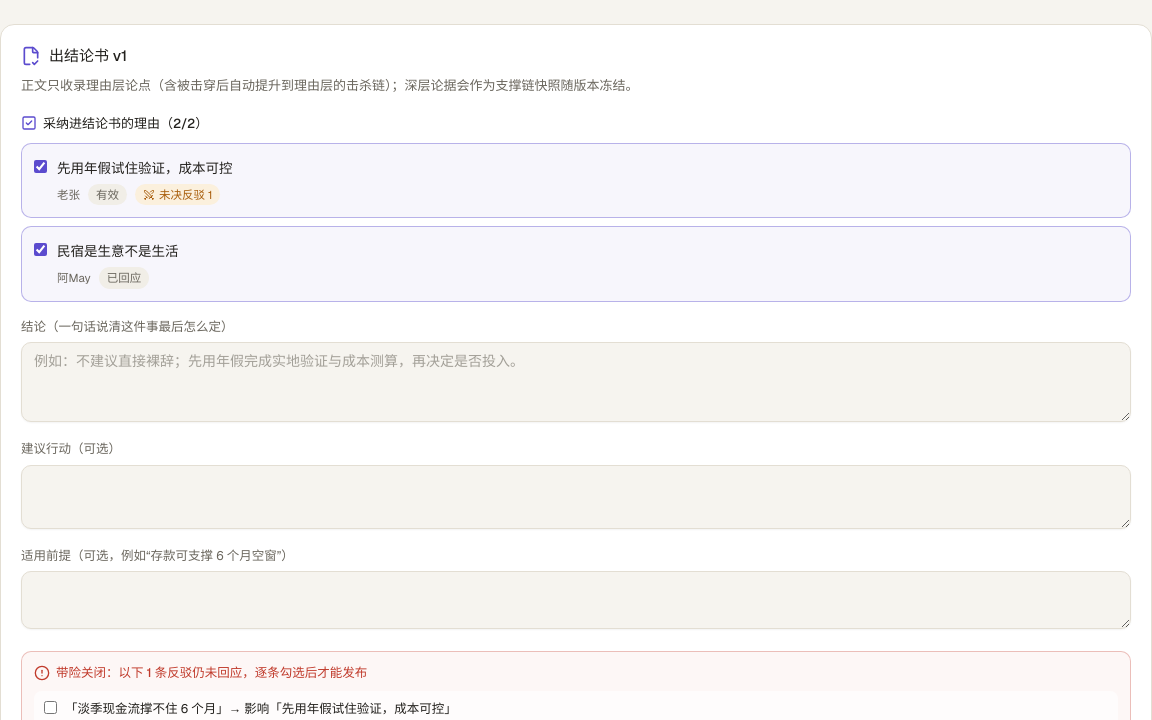
Test: 出结论书向导（M4：采纳 + 带险关闭勾选） › 失败时展示服务端错误
Click the checkbox named "acknowledgedChallengeId": (50, 707) [44,701,57,714]
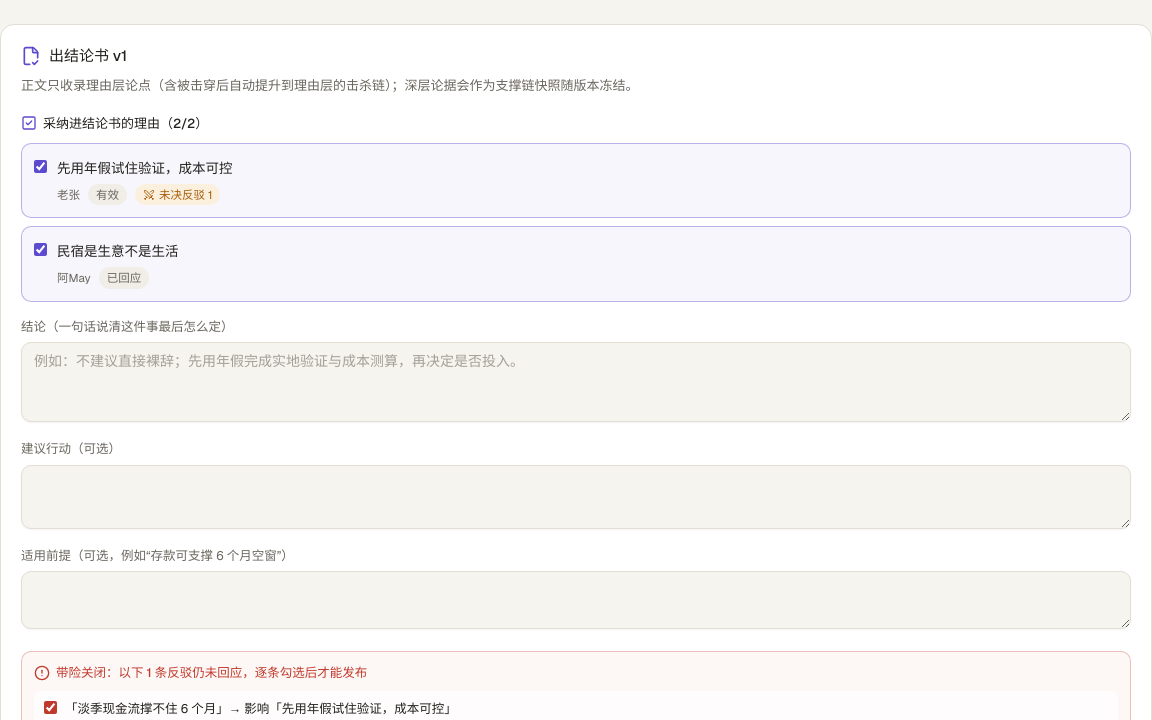
In the text box named "verdictText": (576, 382) [21,342,1131,422], type "不建议直接裸辞：先用年假完成实地验证，再决定是否投入。"
(page scrolled)
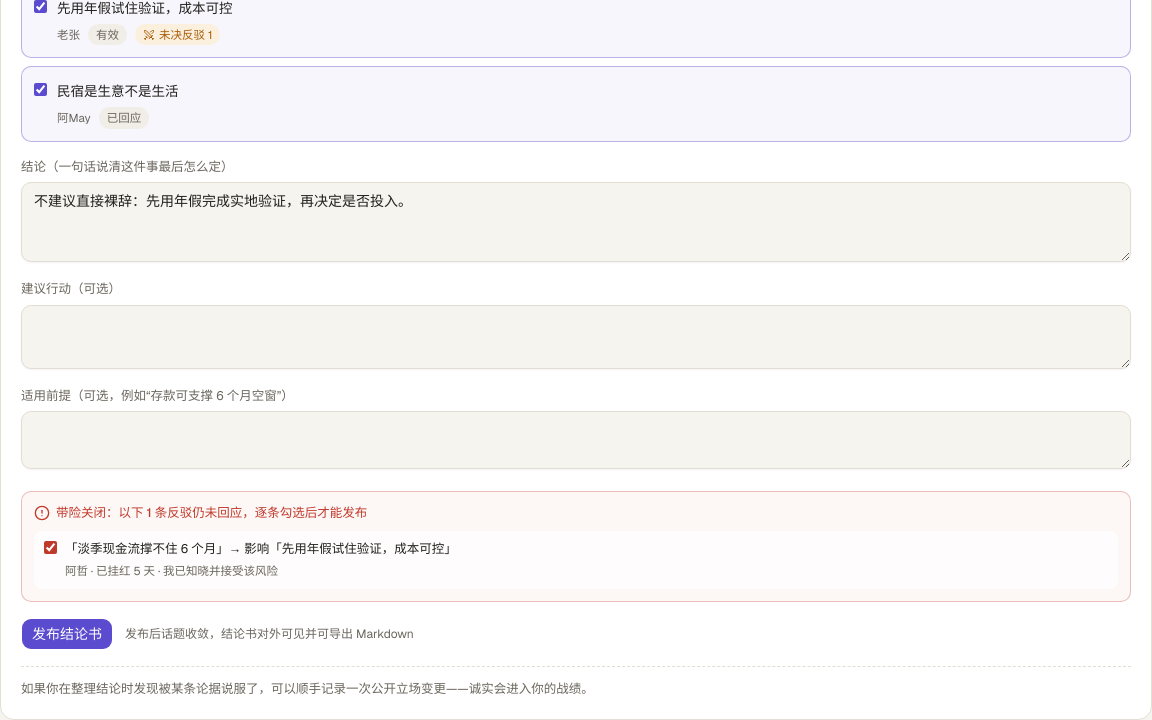
Click the button "发布结论书": (67, 634) [21,618,113,650]
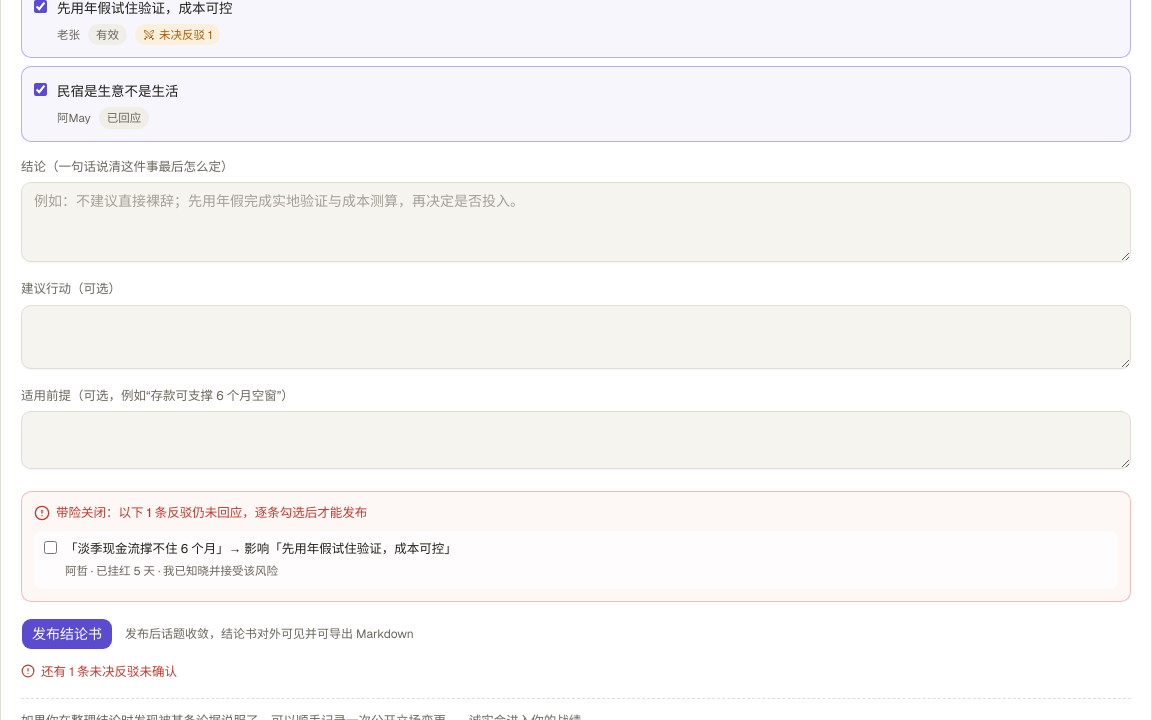
Now the text "还有 1 条未决反驳未确认" is shown, box [21,663,177,680]
